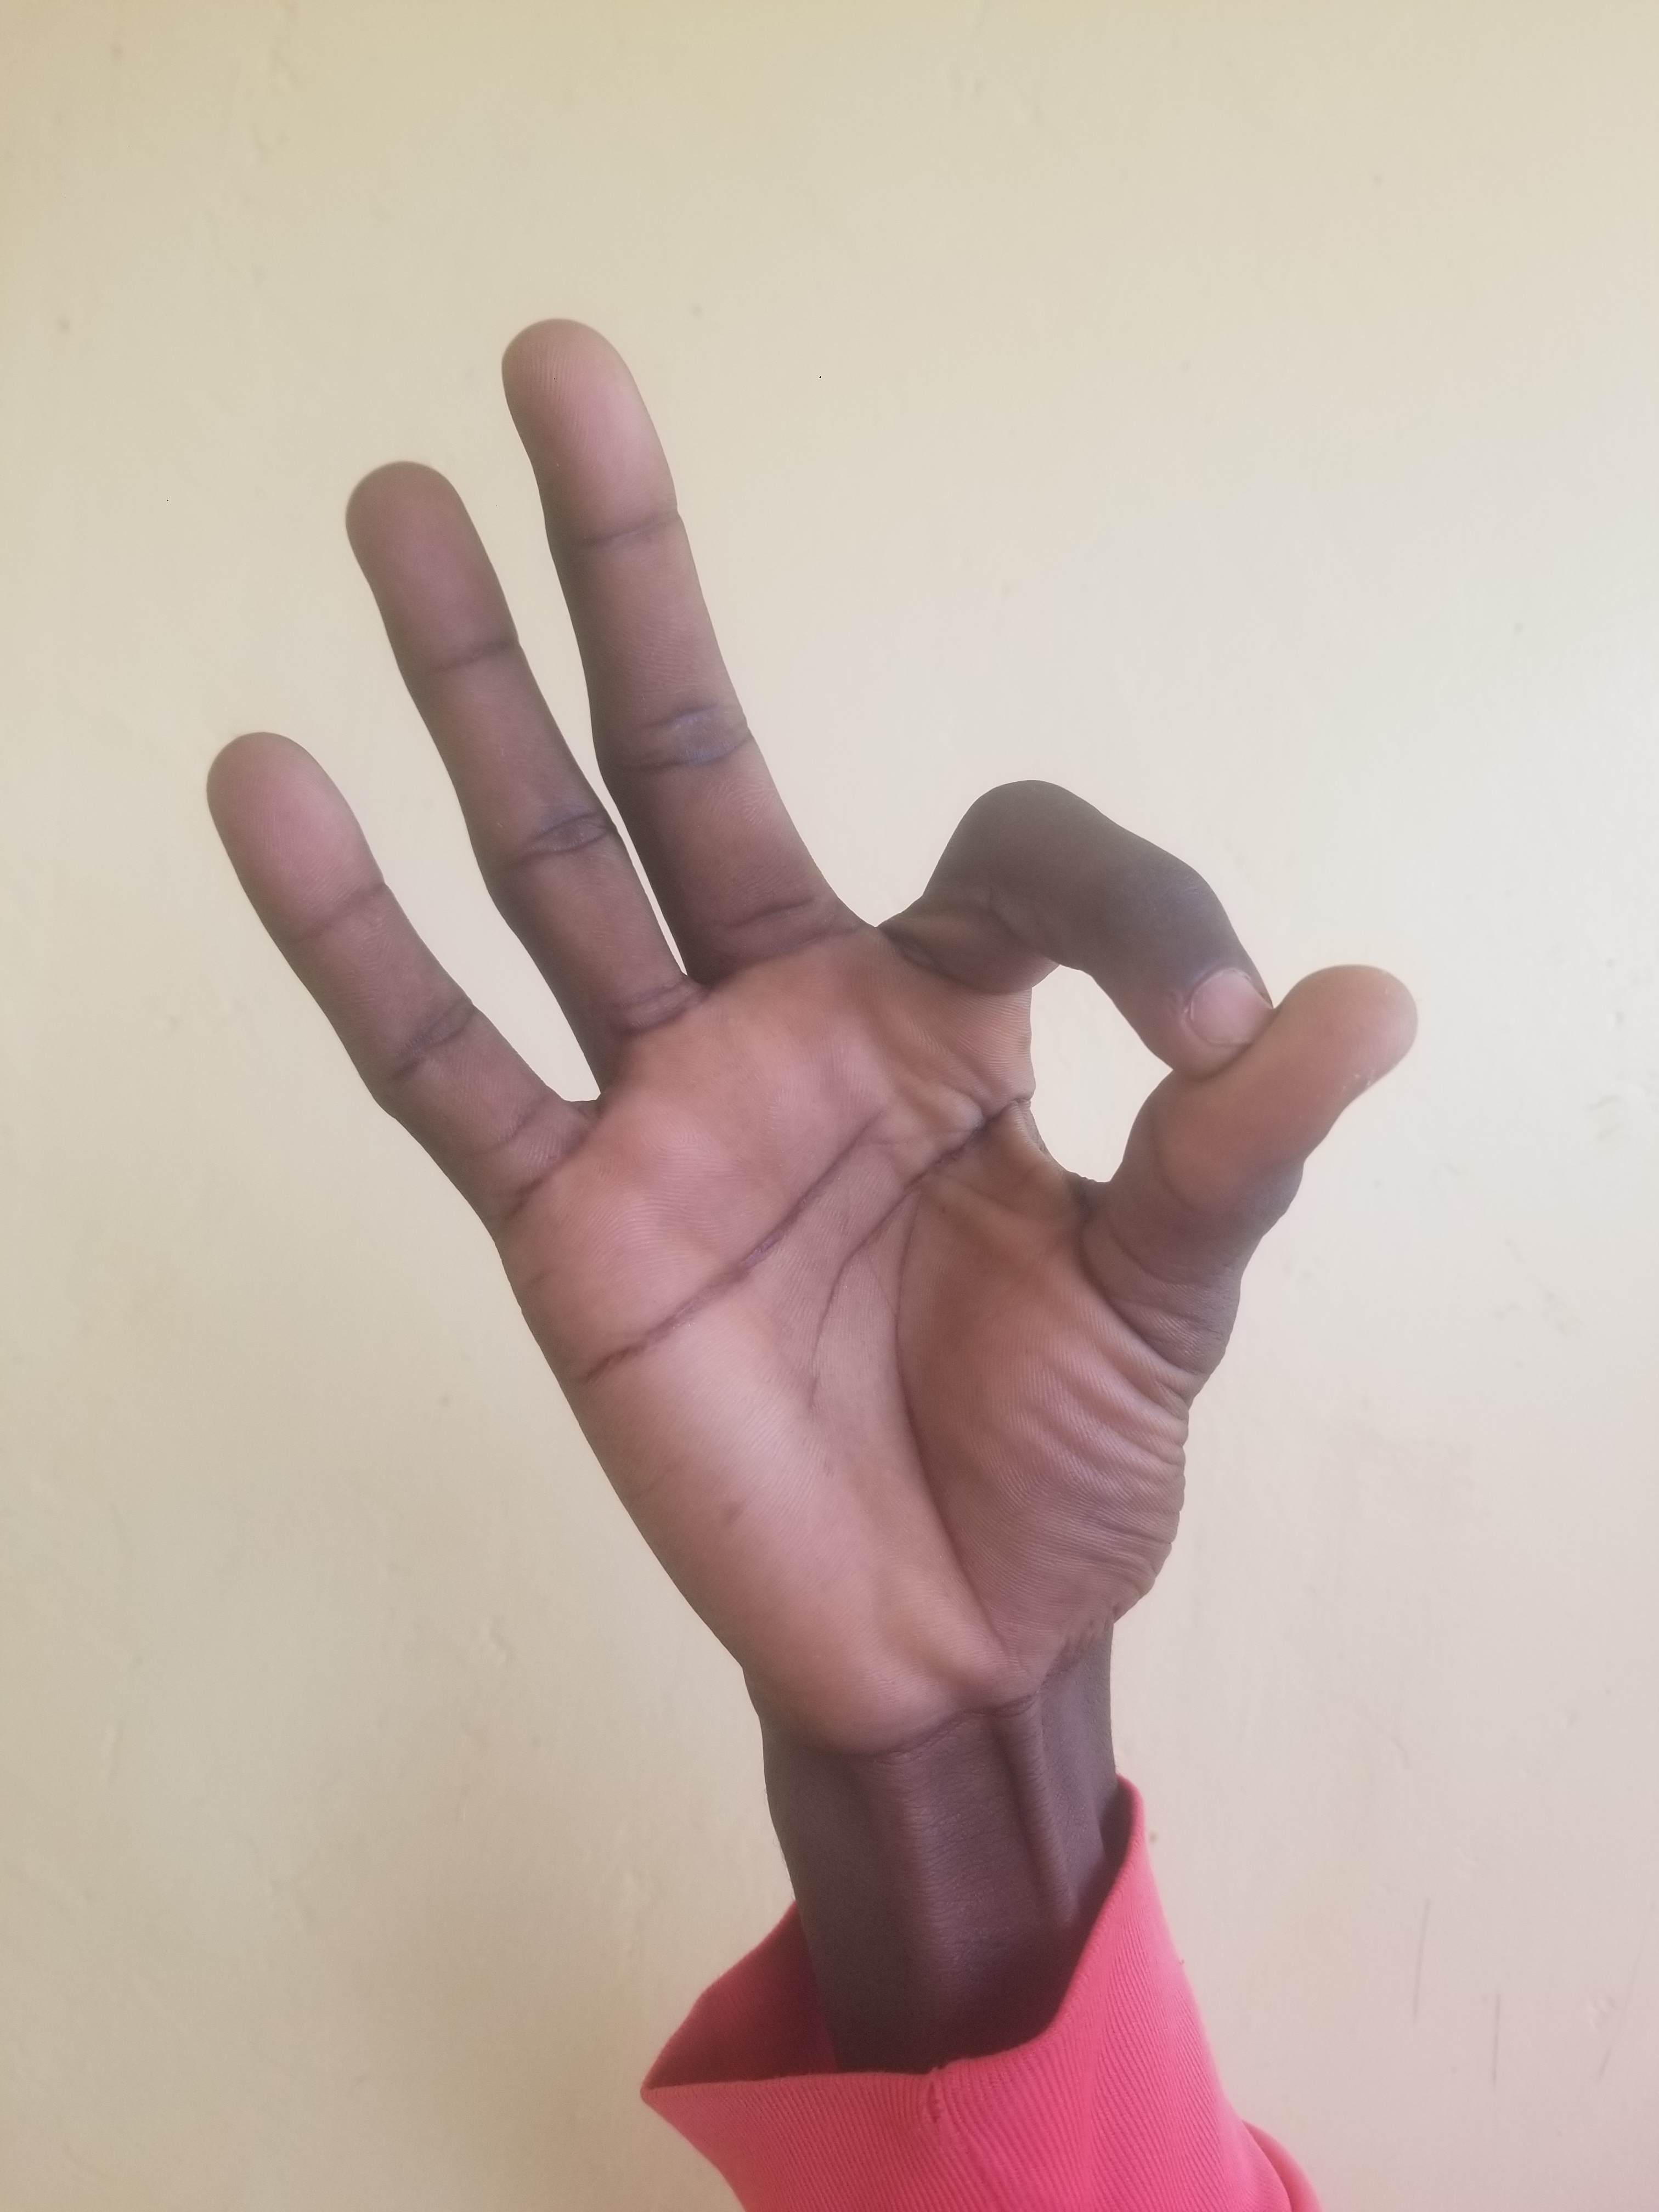ok: (223, 272, 1452, 1862)
